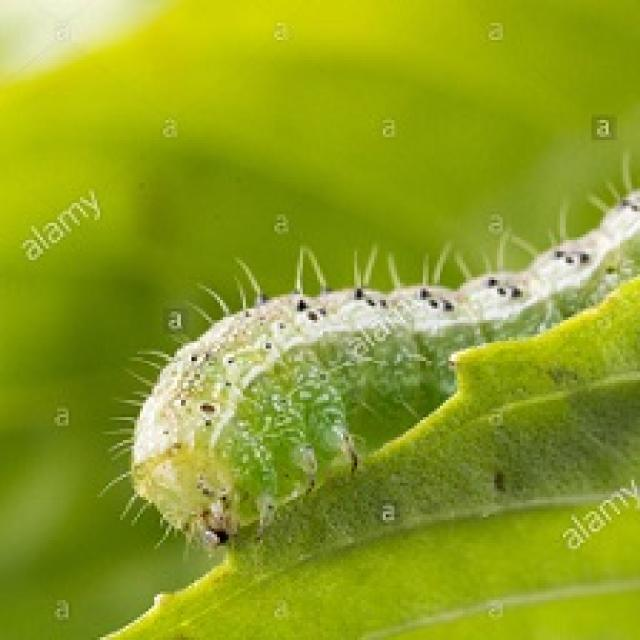Cabbage-worm: (125, 181, 640, 549)
